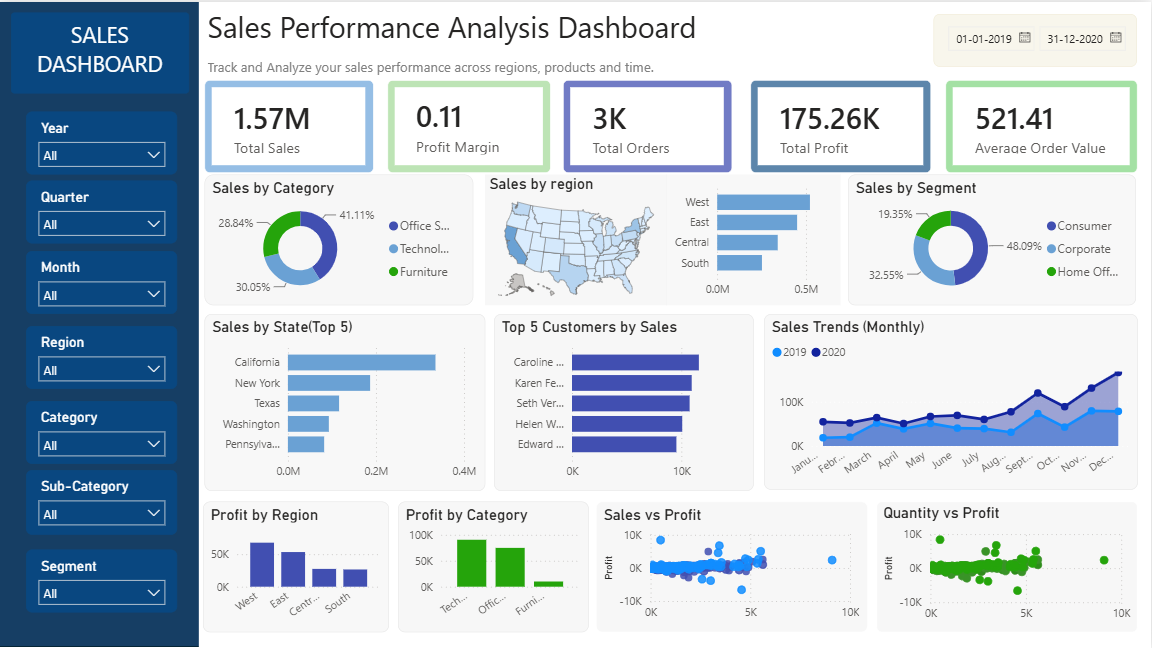

Layout of this report page (visuals, bound fields, positions):
{"tool":"powerbi","page":{"name":"Page 2","canvas":[1280,720],"ordinal":0},"visuals":[{"type":"slicer","fields":{"Values":["Sheet1.Order Date"]},"box":[1038.7,12.7,225.9,58.9],"z":0},{"type":"scatterChart","title":"Sales vs Profit","fields":{"X":["Sum(Sheet1.Sales)"],"Y":["Sum(Sheet1.Profit)"],"Series":["Sheet1.Category"],"Category":["Sheet1.Order ID"]},"box":[663.3,555,301.7,145],"z":1000},{"type":"scatterChart","title":"Quantity vs Profit","fields":{"X":["Sum(Sheet1.Sales)"],"Y":["Sum(Sheet1.Profit)"],"Series":["Sheet1.Category"],"Category":["Sheet1.Order ID"]},"box":[975,555,290,145],"z":2000},{"type":"clusteredBarChart","title":"Top 5 Customers by Sales","fields":{"Category":["Sheet1.Customer Name"],"Y":["Sheet1.Total Sales"]},"box":[550,346.7,288.3,196.7],"z":3000},{"type":"donutChart","title":" Sales by Category","fields":{"Category":["Sheet1.Category"],"Y":["Sum(Sheet1.Sales)"]},"box":[228.3,191.7,298.3,145],"z":4000},{"type":"donutChart","title":" Sales by Segment","fields":{"Category":["Sheet1.Segment"],"Y":["Sum(Sheet1.Sales)"]},"box":[943.3,191.7,320,145],"z":5000},{"type":"clusteredColumnChart","title":"Profit by Region","fields":{"Category":["Sheet1.Region"],"Y":["Sheet1.Total Profit"]},"box":[226.7,555,206.7,145],"z":6000},{"type":"clusteredColumnChart","title":" Profit by Category","fields":{"Category":["Sheet1.Category"],"Y":["Sheet1.Total Profit"]},"box":[443.3,555,211.7,145],"z":7000},{"type":"clusteredBarChart","title":" Sales by State(Top 5)","fields":{"Category":["Sheet1.State"],"Y":["Sheet1.Total Sales"]},"box":[228.3,346.7,311.7,196.7],"z":8000},{"type":"lineChart","title":" Sales Trends (Monthly)","fields":{"Category":["Sheet1.Order Date.Variation.Date Hierarchy.Month"],"Y":["Sheet1.Total Sales"],"Series":["Sheet1.Order Date.Variation.Date Hierarchy.Year"]},"box":[850,346.7,415,195],"z":9000},{"type":"shapeMap","title":"Sales by region","fields":{"Value":["Sheet1.Total Sales"],"Category":["Sheet1.State"]},"box":[540,191.7,201.7,145],"z":10000},{"type":"clusteredBarChart","fields":{"Category":["Sheet1.Region"],"Y":["Sheet1.Total Sales"]},"box":[741.7,191.7,193.3,145],"z":11000},{"type":"cardVisual","fields":{"Data":["Sheet1.Profit Margin"]},"box":[431.1,87.5,181.3,103.4],"z":12000},{"type":"textbox","box":[227.5,0,586.9,55.7],"z":13000},{"type":"textbox","box":[227.5,55.7,574.2,31.8],"z":14000},{"type":"cardVisual","fields":{"Data":["Sheet1.Total Sales"]},"box":[229,87.5,187.7,103.4],"z":15000},{"type":"cardVisual","fields":{"Data":["Sheet1.Total Profit"]},"box":[835.1,87.5,200.4,103.4],"z":16000},{"type":"cardVisual","fields":{"Data":["Sheet1.Total Orders"]},"box":[626.7,87.5,187.7,103.4],"z":17000},{"type":"cardVisual","fields":{"Data":["Sheet1.Average Order Value"]},"box":[1051.4,87.5,213.1,103.4],"z":18000},{"type":"slicer","fields":{"Values":["Sheet1.Order Date.Variation.Date Hierarchy.Year"]},"box":[30,122,168,70],"z":19000},{"type":"slicer","fields":{"Values":["Sheet1.Order Date.Variation.Date Hierarchy.Quarter"]},"box":[30,198,168,70],"z":20000},{"type":"slicer","fields":{"Values":["Sheet1.Order Date.Variation.Date Hierarchy.Month"]},"box":[30,276,168,70],"z":21000},{"type":"slicer","fields":{"Values":["Sheet1.Segment"]},"box":[30,608,168,70],"z":22000},{"type":"slicer","fields":{"Values":["Sheet1.Category"]},"box":[30,444,168,70],"z":23000},{"type":"slicer","fields":{"Values":["Sheet1.Region"]},"box":[30,360,168,70],"z":24000},{"type":"slicer","fields":{"Values":["Sheet1.Sub-Category"]},"box":[30,520,168,72],"z":25000},{"type":"textbox","box":[14,12,198,90],"z":26000}]}

Visuals, with their boxes in screenshot pixels (x1, y1, x2, y2), scaled from the page's 1280x720 canvas onto the 1152x648 screenshot:
slicer - Sheet1.Order Date: select_region(935, 11, 1138, 64)
"Sales vs Profit" scatterChart: select_region(597, 500, 868, 630)
"Quantity vs Profit" scatterChart: select_region(878, 500, 1138, 630)
"Top 5 Customers by Sales" clusteredBarChart: select_region(495, 312, 754, 489)
" Sales by Category" donutChart: select_region(205, 173, 474, 303)
" Sales by Segment" donutChart: select_region(849, 173, 1137, 303)
"Profit by Region" clusteredColumnChart: select_region(204, 500, 390, 630)
" Profit by Category" clusteredColumnChart: select_region(399, 500, 590, 630)
" Sales by State(Top 5)" clusteredBarChart: select_region(205, 312, 486, 489)
" Sales Trends (Monthly)" lineChart: select_region(765, 312, 1138, 488)
"Sales by region" shapeMap: select_region(486, 173, 668, 303)
clusteredBarChart - Sheet1.Region x Sheet1.Total Sales: select_region(668, 173, 842, 303)
cardVisual - Sheet1.Profit Margin: select_region(388, 79, 551, 172)
textbox: select_region(205, 0, 733, 50)
textbox: select_region(205, 50, 722, 79)
cardVisual - Sheet1.Total Sales: select_region(206, 79, 375, 172)
cardVisual - Sheet1.Total Profit: select_region(752, 79, 932, 172)
cardVisual - Sheet1.Total Orders: select_region(564, 79, 733, 172)
cardVisual - Sheet1.Average Order Value: select_region(946, 79, 1138, 172)
slicer - Sheet1.Order Date.Variation.Date Hierarchy.Year: select_region(27, 110, 178, 173)
slicer - Sheet1.Order Date.Variation.Date Hierarchy.Quarter: select_region(27, 178, 178, 241)
slicer - Sheet1.Order Date.Variation.Date Hierarchy.Month: select_region(27, 248, 178, 311)
slicer - Sheet1.Segment: select_region(27, 547, 178, 610)
slicer - Sheet1.Category: select_region(27, 400, 178, 463)
slicer - Sheet1.Region: select_region(27, 324, 178, 387)
slicer - Sheet1.Sub-Category: select_region(27, 468, 178, 533)
textbox: select_region(13, 11, 191, 92)
